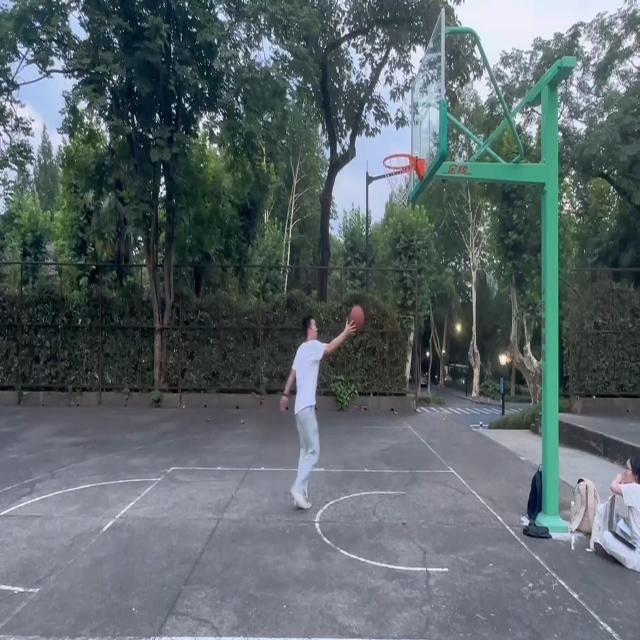basketball: (383, 153, 423, 208)
rim: (350, 306, 365, 332)
